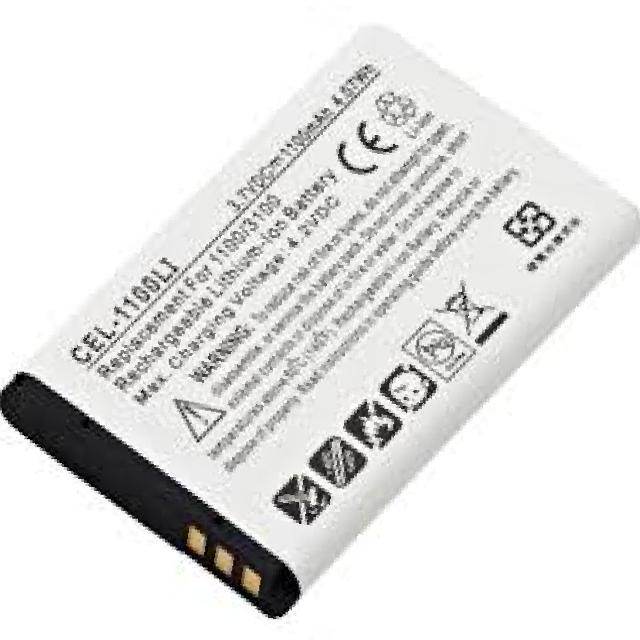Battery: (0, 13, 640, 640)
